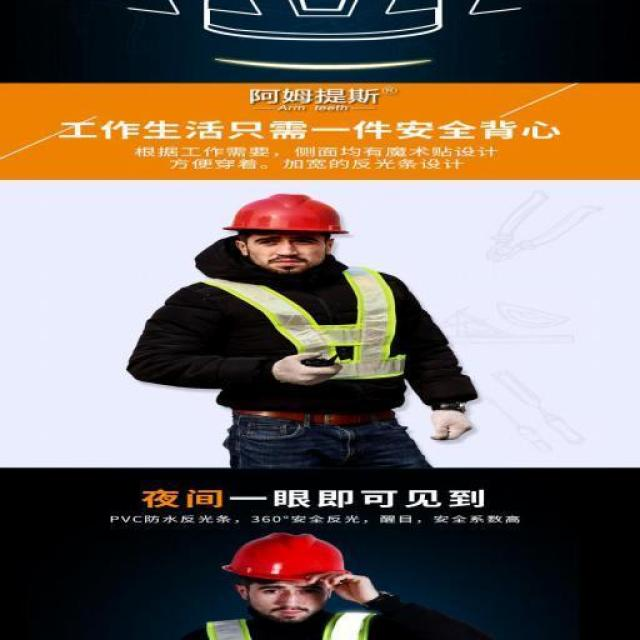vest: (215, 263, 410, 392)
